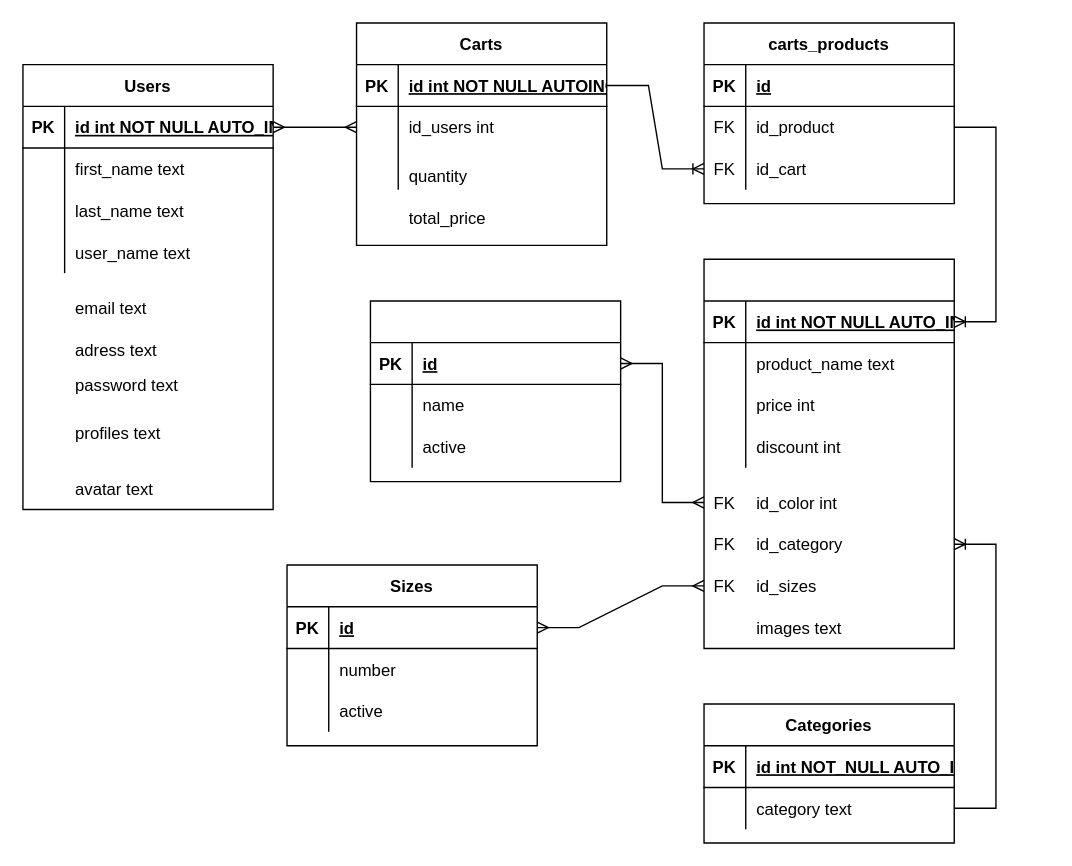
The diagram is 1072 pixels wide and 866 high, and some of its shapes have lost their labels. The shapes that lost their labels are listed below. From the top down, each one's box as (x1, y1, x2, y2) in pixels, then its label:
(369, 300, 621, 482): Colors
(703, 258, 954, 648): Products
